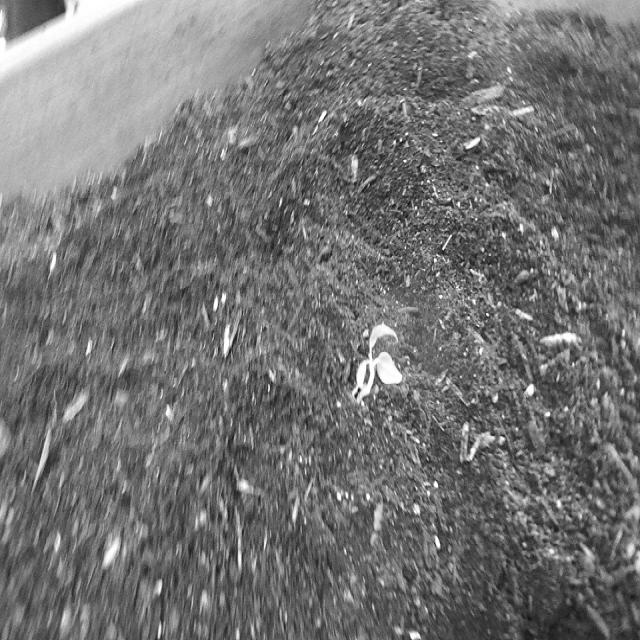Healthy: (343, 304, 413, 429)
